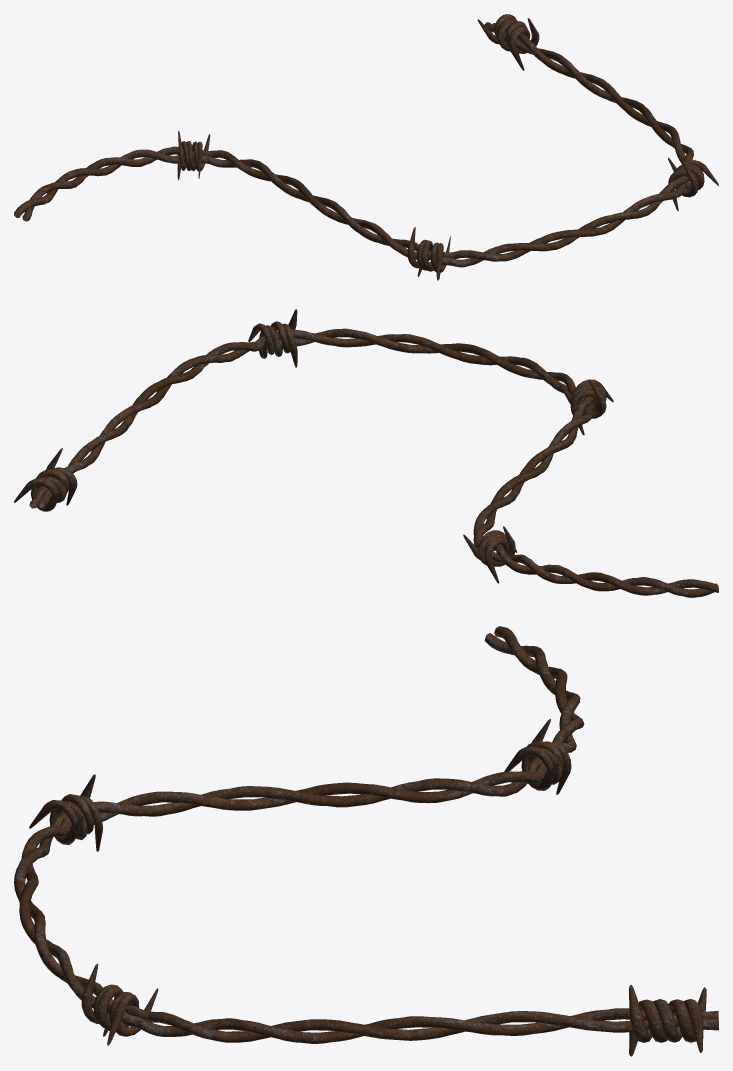
File: SM_Wire_Splines_4.fbx
The picture shows the model from 3 angles, top to bottom: view 1: azimuth 30°, elevation 25°; view 2: azimuth 150°, elevation 25°; view 3: azimuth 270°, elevation 25°; orthographic projection. The views are drawn at different scales.
Visible parts, largest first — view 1: SM_Wire_Splines_4_LOD0; view 2: SM_Wire_Splines_4_LOD0; view 3: SM_Wire_Splines_4_LOD0.
Part boxes in pixels (x1,y1,x2,y2): SM_Wire_Splines_4_LOD0: (14,14,718,280); SM_Wire_Splines_4_LOD0: (14,309,718,597); SM_Wire_Splines_4_LOD0: (14,626,718,1056).
Size of the model in its own units: 95.88 by 69.86 by 8.19.
